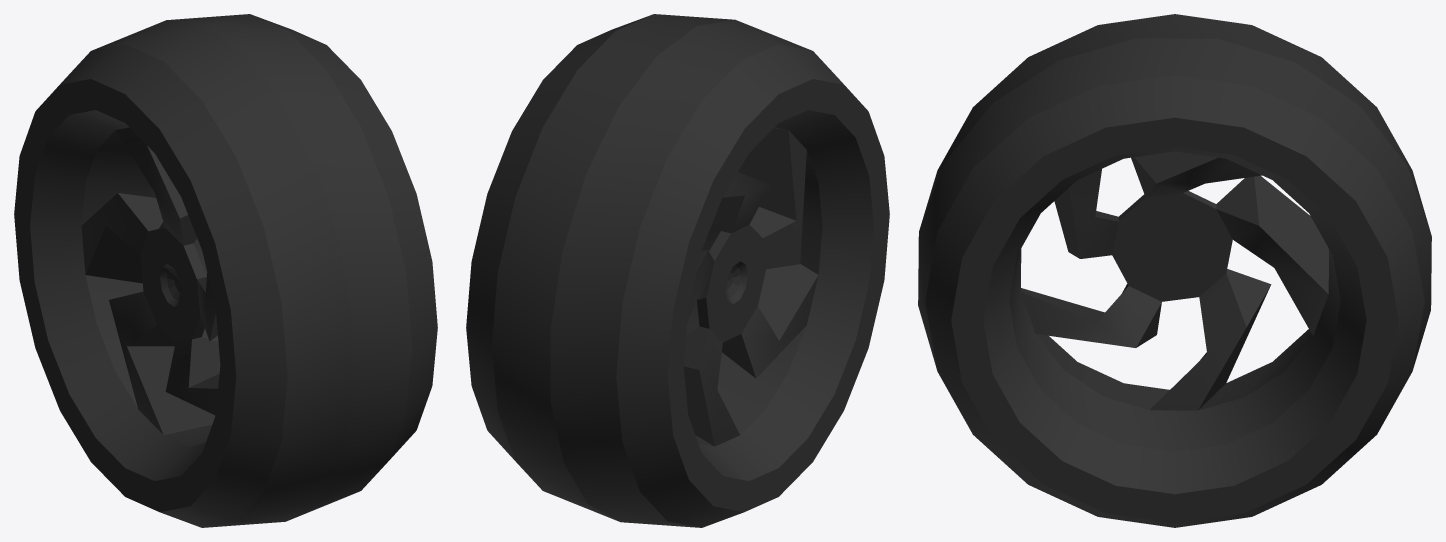
The model's file is wBL.obj.
3 renders of one model, left to right at view 1: azimuth 30°, elevation 25°; view 2: azimuth 150°, elevation 25°; view 3: azimuth 270°, elevation 25°, orthographic.
Visible parts, largest first — view 1: polySurface27; view 2: polySurface27; view 3: polySurface27.
Boxes of the visible parts, x1,y1,x2,y2 form: polySurface27: [14, 14, 437, 527]; polySurface27: [466, 14, 889, 527]; polySurface27: [918, 14, 1431, 527].
Size of the model in its own units: 0.3386 by 0.7421 by 0.7421.
Materials: 1 (1 with a texture image).
